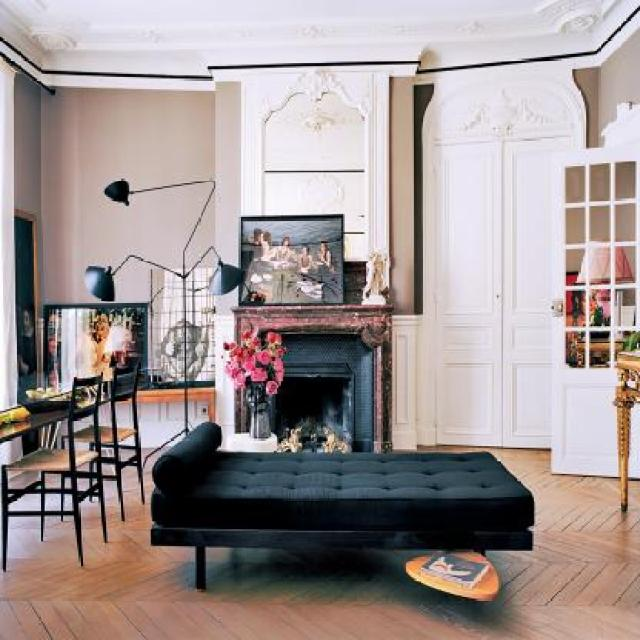floor: (0, 446, 640, 640)
